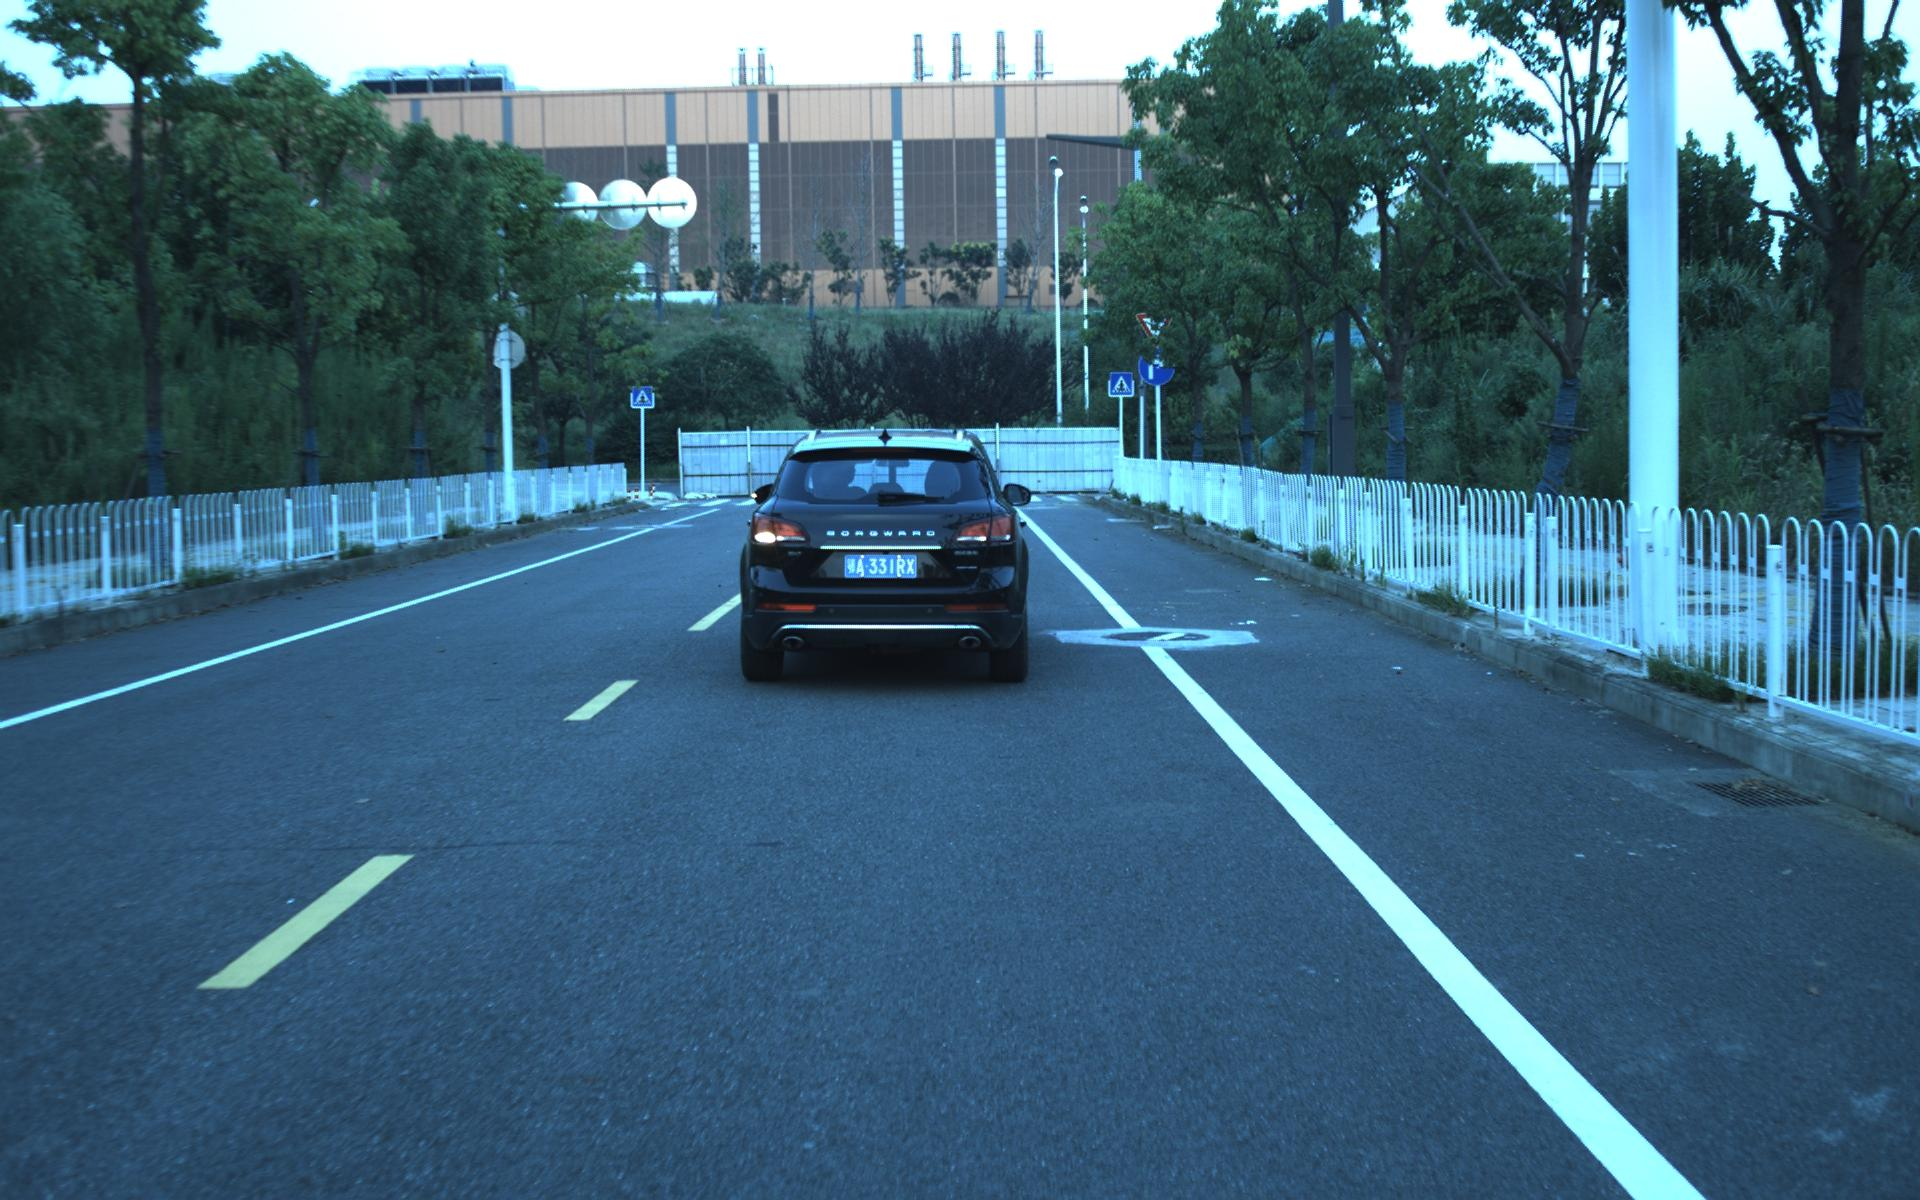Car: (735, 419, 1031, 686)
